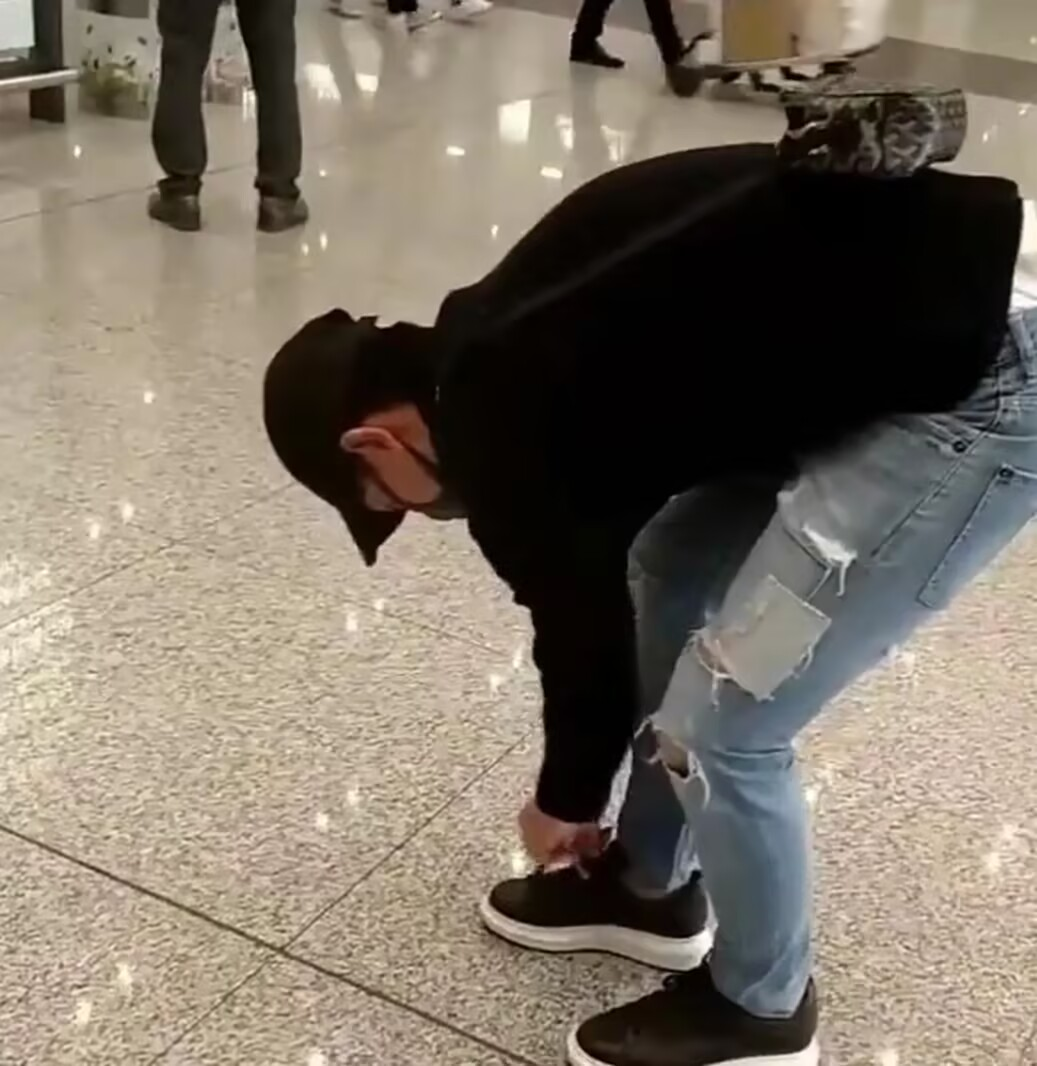bending: (270, 118, 1024, 1054)
